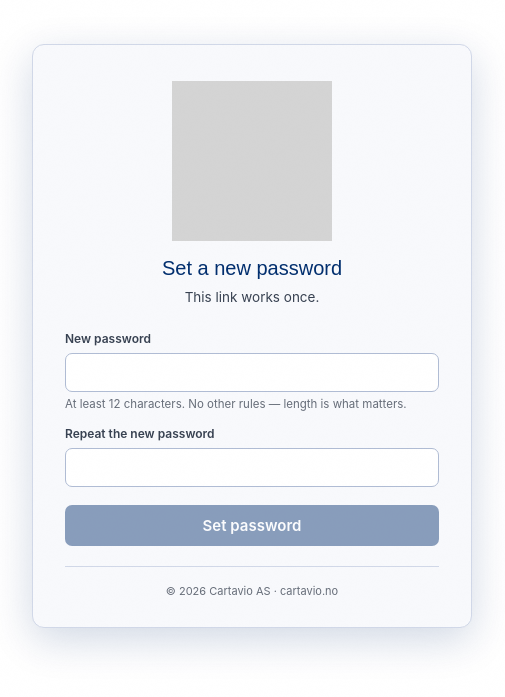
Test case: <ResetScreen> › shows the server's wording for a spent or expired link
Type "correct-horse-battery" into the password field labelled "New password" at (252, 373), box [65, 353, 439, 392]
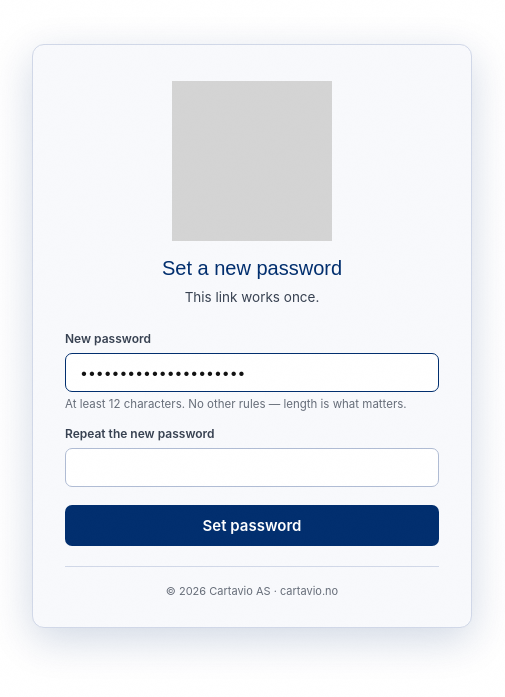
Type "correct-horse-battery" into the password field labelled "Repeat the new password" at (252, 467), box [65, 448, 439, 487]
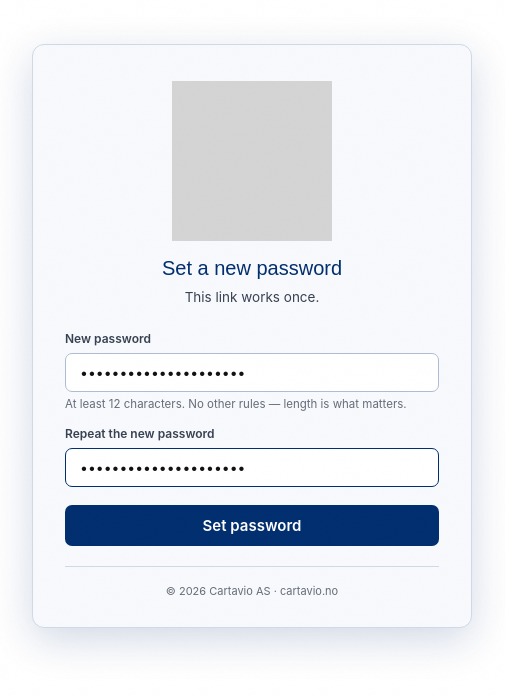
Click the button "Set password" at (252, 525), box [65, 505, 439, 546]
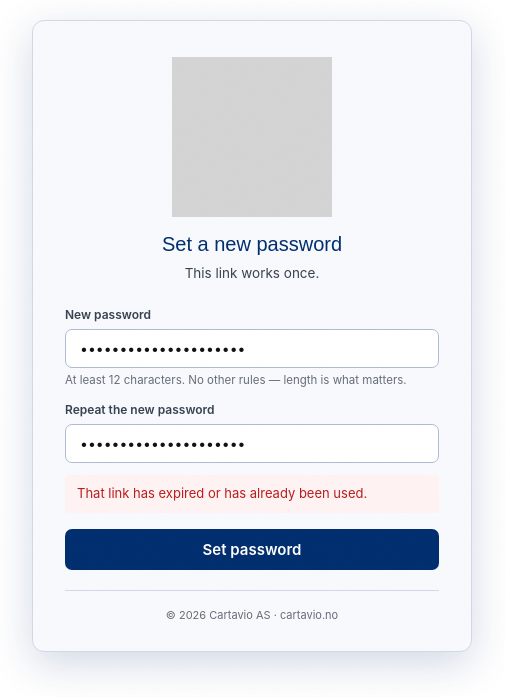
Check: the message shows "expired or has already been used", box [77, 485, 367, 501]
